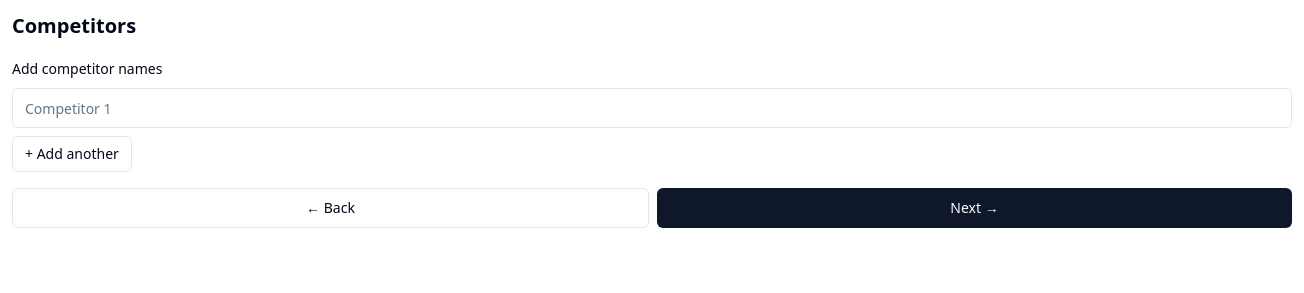
Test case: OnboardingPage — CompetitorsStep in isolation › adds a new input when clicking Add another
The width and height of the screenshot is (1304, 293).
Click the button "+ Add another". click: (72, 154)
box: [12, 136, 132, 172]
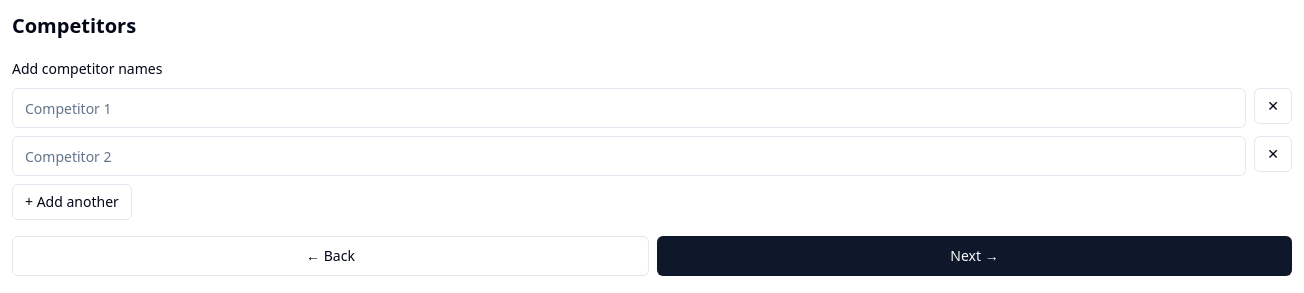
Expected: the number of fields with placeholder "Competitor 1" is 2, [12, 88, 1246, 128]; [12, 136, 1246, 176]
